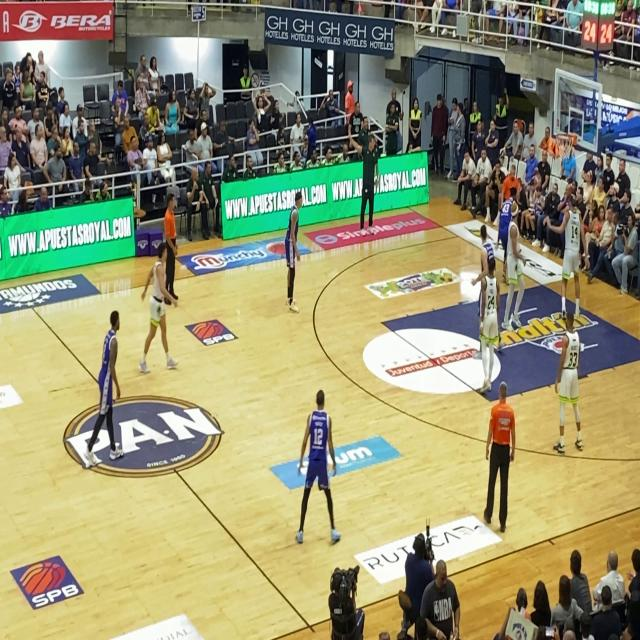referee: (479, 375, 524, 534), (161, 190, 183, 289)
team1: (135, 236, 171, 388), (551, 304, 585, 448), (498, 180, 527, 338)
team2: (291, 384, 335, 555)
ubasket: (556, 127, 576, 164)
